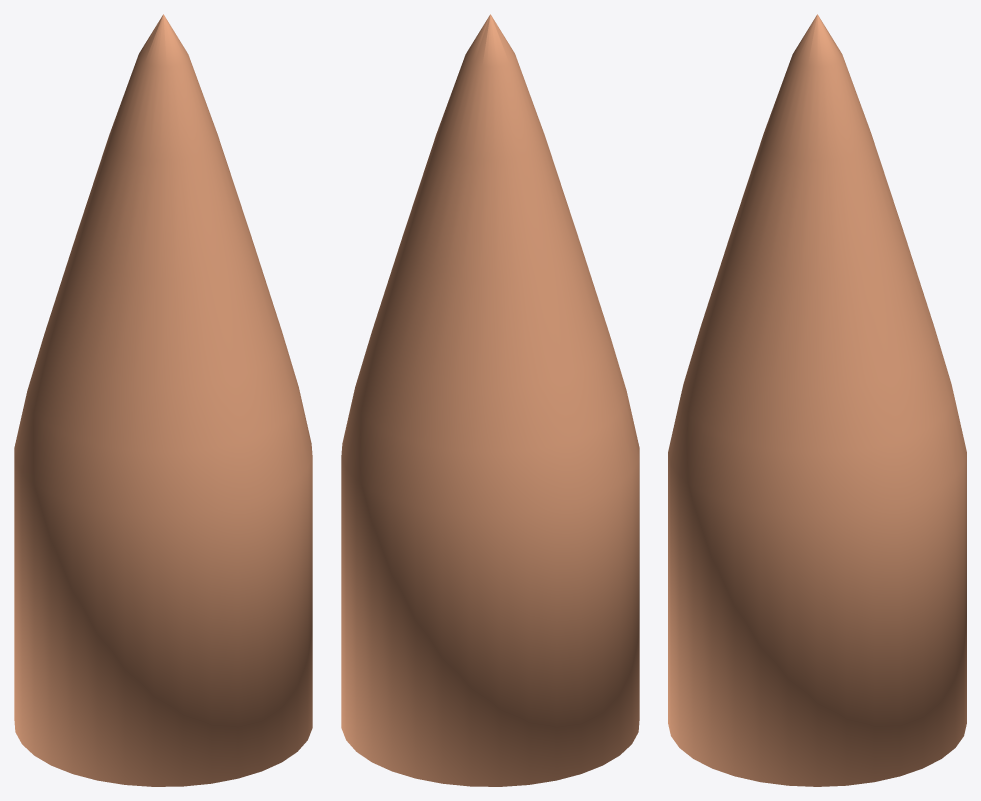
Rendered from bullet.fbx.
3 views of the same model, side by side, from view 1: azimuth 30°, elevation 25°; view 2: azimuth 150°, elevation 25°; view 3: azimuth 270°, elevation 25° (orthographic).
Visible parts, largest first — view 1: bullet; view 2: bullet; view 3: bullet.
Boxes of the visible parts, left/top/right/bottom form: bullet: left=14, top=14, right=312, bottom=786; bullet: left=341, top=14, right=639, bottom=786; bullet: left=668, top=14, right=966, bottom=786.
Bounding box in the file's own units: 44.02 × 115 × 44.02.
